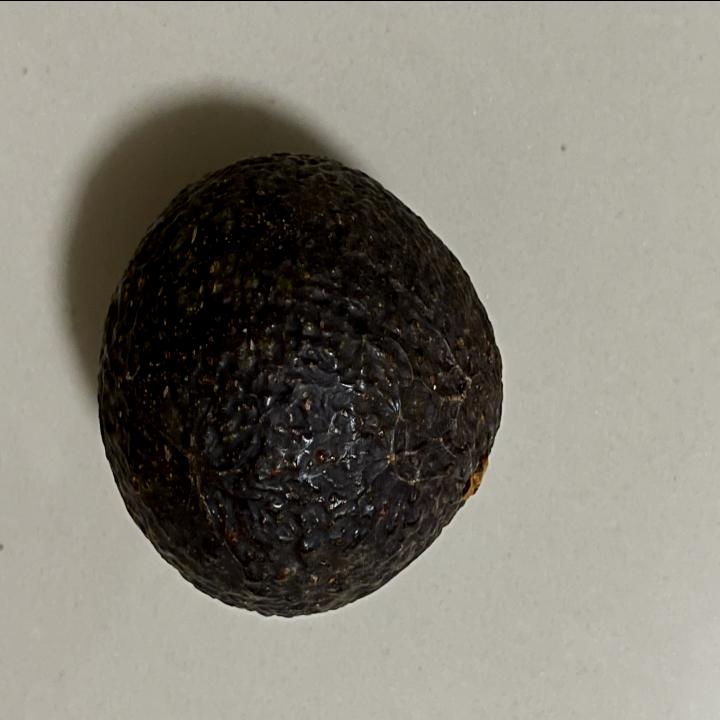Level1: (88, 140, 516, 628)
